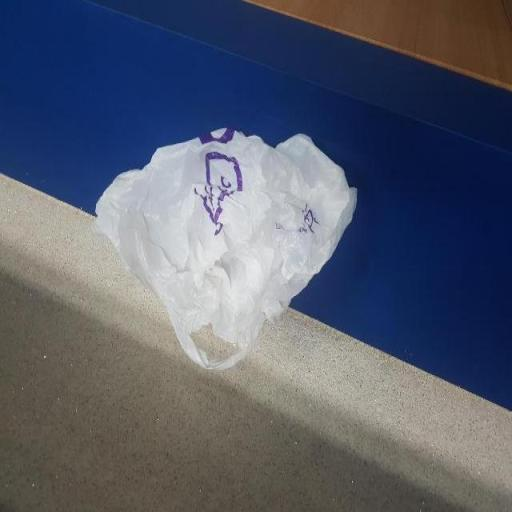plastic-bag: (94, 123, 362, 374)
